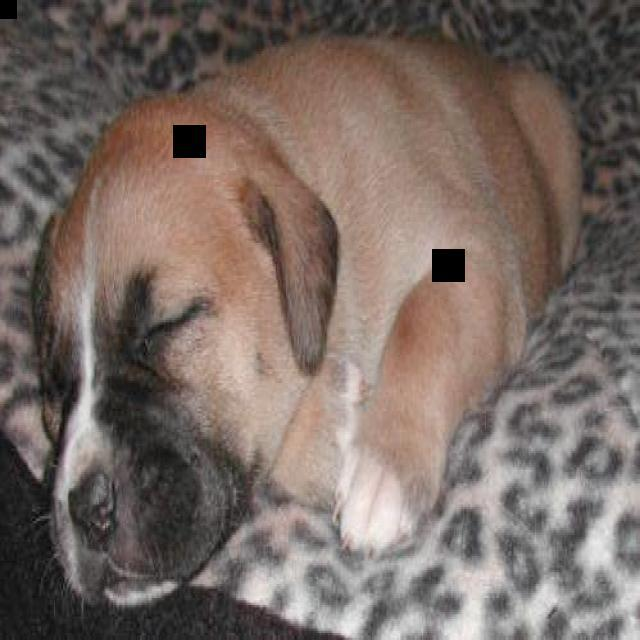puppy-dog: (31, 32, 590, 611)
